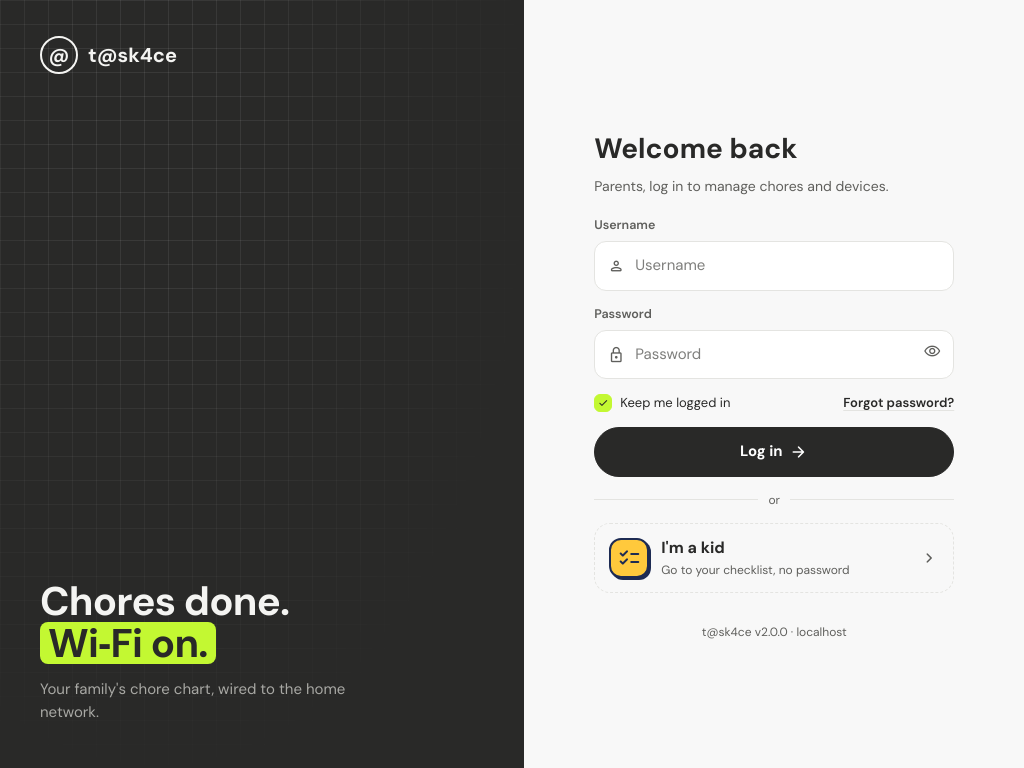
Scenario: LoginForm › wrong password shows the message inline and does not log
The image size is (1024, 768).
Type "admin" into the field labelled "Username" at [787, 266], box [633,253,941,279]
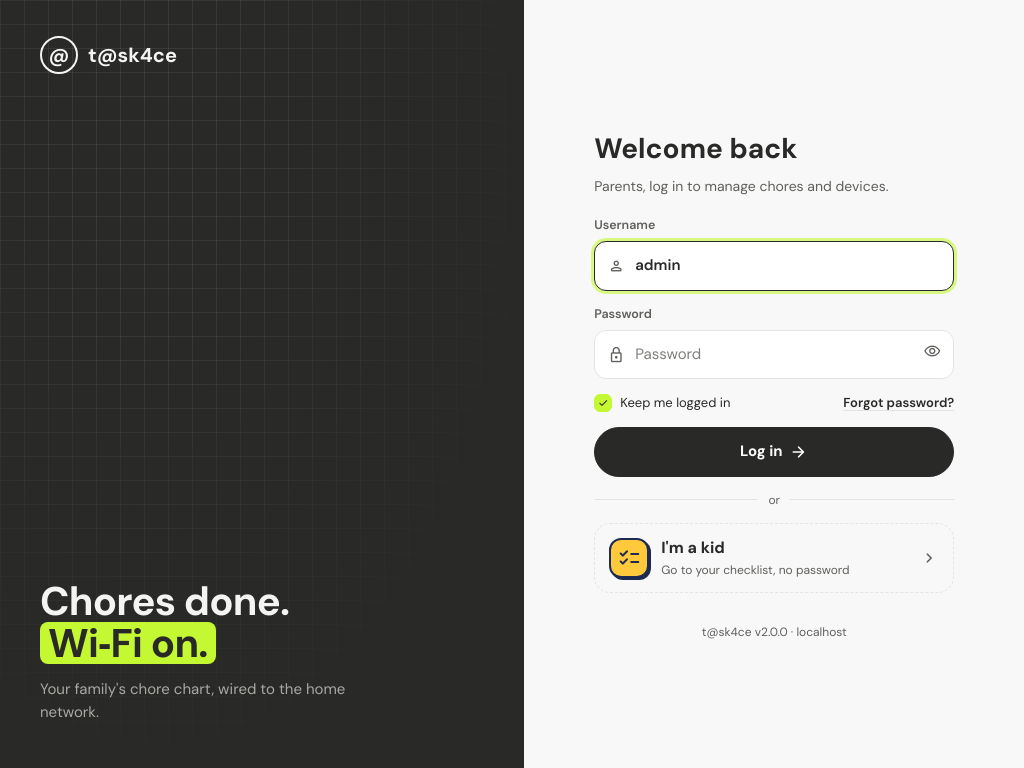
Type "secret" into the password field labelled "Password" at [774, 355], box [633,342,915,367]
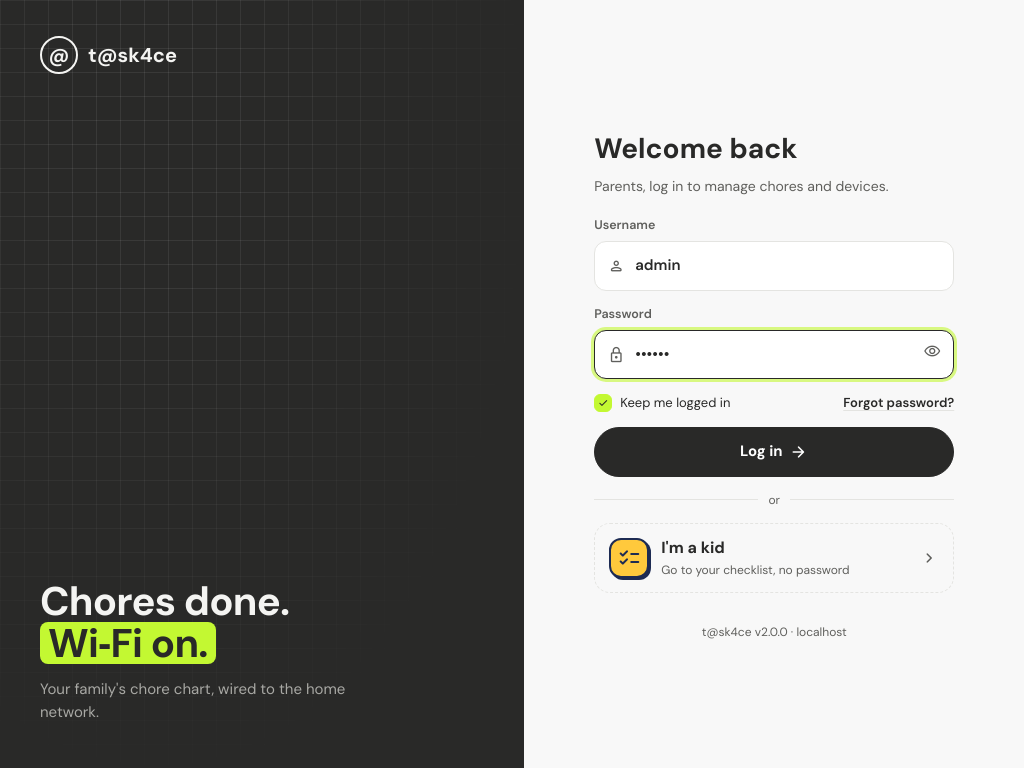
Click the button "Log in" at [774, 452], box [594,427,954,477]
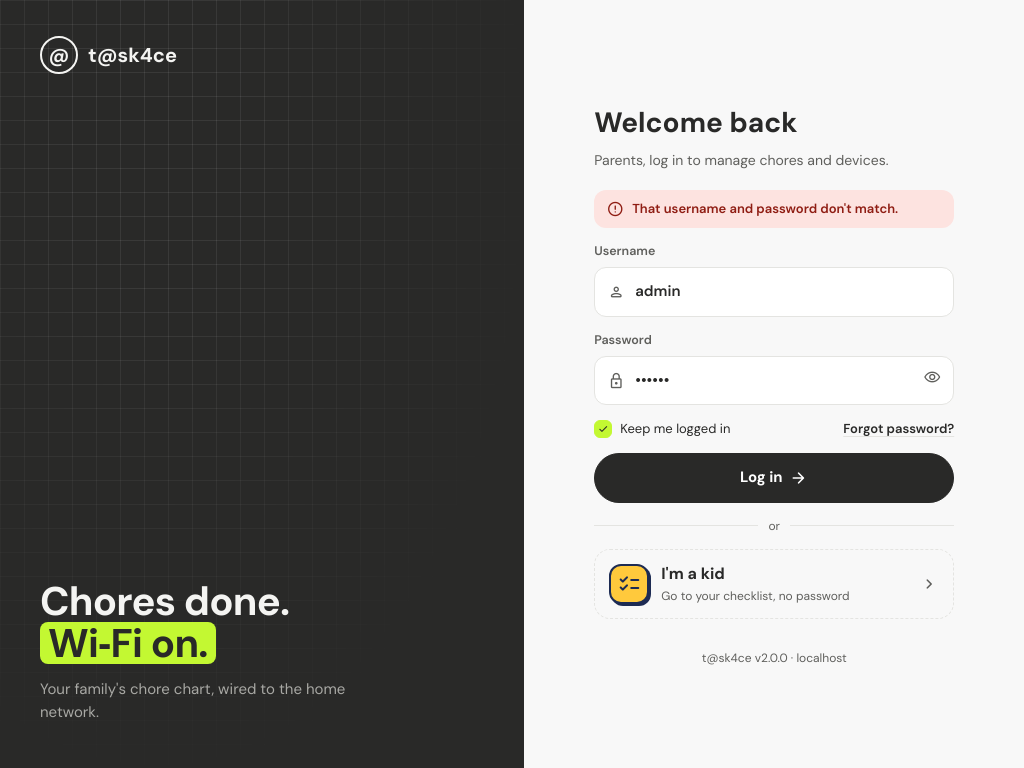
Expected: the message reads "That username and password don't match.", [632,200,898,217]
